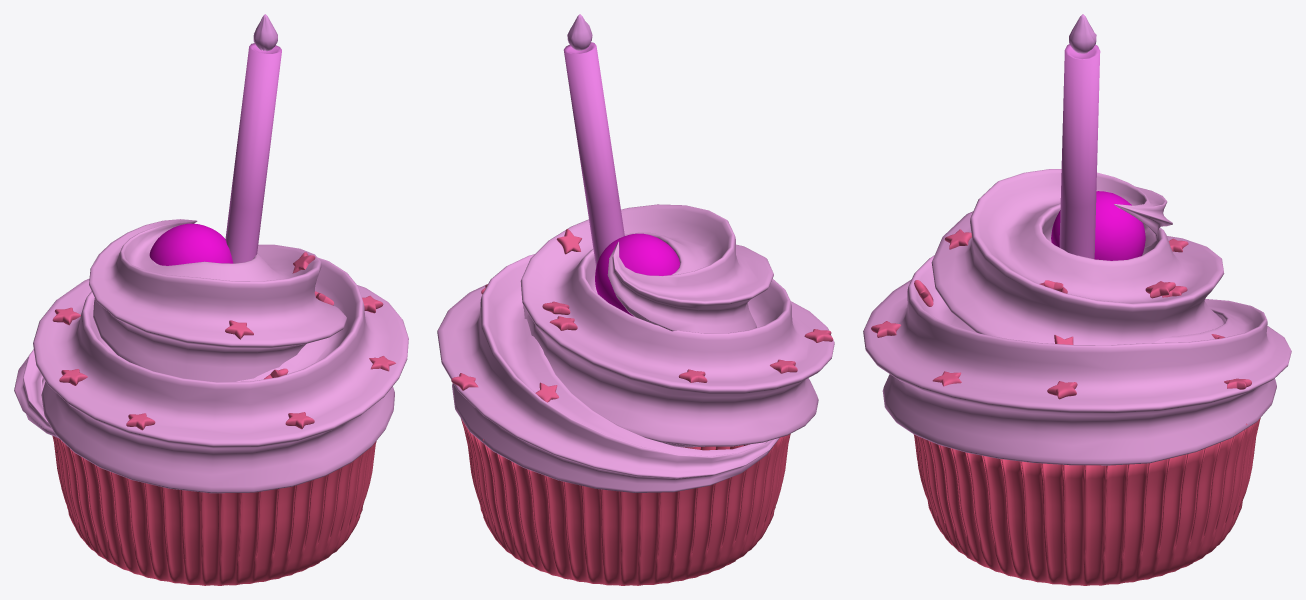
The model's file is color-cupcake.glb.
3 views of the same model, side by side, from view 1: azimuth 30°, elevation 25°; view 2: azimuth 150°, elevation 25°; view 3: azimuth 270°, elevation 25° (orthographic). The views are drawn at different scales.
Parts seen in each view (by area): view 1: P_GLACEZON_BezierCurve, P_Envoltura_Circle, V_Flama_Circle.003, P_Cereza_Icosphere; view 2: P_GLACEZON_BezierCurve, P_Envoltura_Circle, V_Flama_Circle.003, P_Cereza_Icosphere; view 3: P_GLACEZON_BezierCurve, P_Envoltura_Circle, V_Flama_Circle.003, P_Cereza_Icosphere.
Part boxes in pixels (bbox=[...]): P_GLACEZON_BezierCurve: bbox=[14, 219, 408, 493]; P_Envoltura_Circle: bbox=[52, 436, 376, 585]; V_Flama_Circle.003: bbox=[225, 14, 281, 263]; P_Cereza_Icosphere: bbox=[149, 223, 233, 265]; P_GLACEZON_BezierCurve: bbox=[437, 204, 834, 492]; P_Envoltura_Circle: bbox=[461, 419, 790, 585]; V_Flama_Circle.003: bbox=[563, 14, 624, 267]; P_Cereza_Icosphere: bbox=[595, 233, 679, 316]; P_GLACEZON_BezierCurve: bbox=[863, 169, 1291, 465]; P_Envoltura_Circle: bbox=[913, 418, 1260, 585]; V_Flama_Circle.003: bbox=[1059, 14, 1100, 258]; P_Cereza_Icosphere: bbox=[1051, 191, 1145, 260].
Size of the model in its own units: 0.0704 by 0.1019 by 0.0726.
